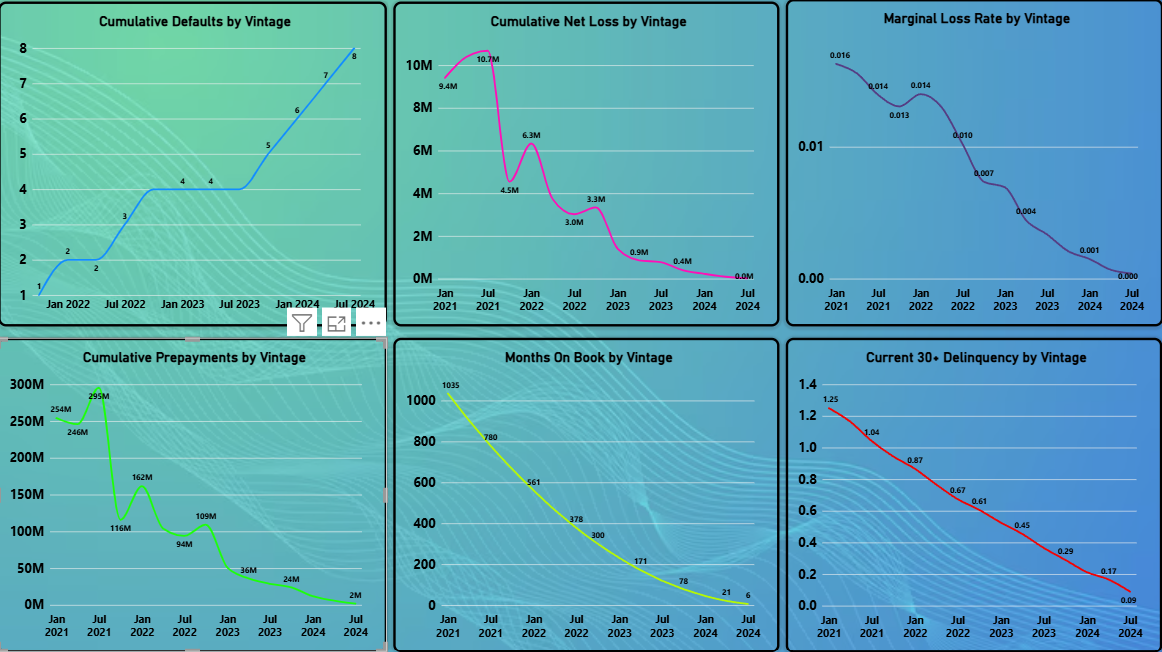

This screenshot's page, from the dashboard's own definition file:
{"tool":"powerbi","page":{"name":"Vintage & Portfolio Trends","canvas":[1920,1080],"ordinal":6},"visuals":[{"type":"lineChart","title":"Cumulative Defaults by Vintage","fields":{"Category":["Vintage.VintageStartDate"],"Y":["Measures (2).Cumulative Defaults Count"]},"box":[2.1,4.1,640.1,535.2],"z":0},{"type":"lineChart","title":"Cumulative Net Loss by Vintage","fields":{"Category":["Vintage.VintageStartDate"],"Y":["Sum(Vintage.CumulativeNetLoss)"]},"box":[652.5,4.1,636,535.2],"z":1000},{"type":"lineChart","title":"Marginal Loss Rate by Vintage","fields":{"Category":["Vintage.VintageStartDate"],"Y":["Sum(Vintage.MarginalLossRate)"]},"box":[1298.8,0,621.6,539.3],"z":2000},{"type":"lineChart","title":"Cumulative Prepayments by Vintage","fields":{"Category":["Vintage.VintageStartDate"],"Y":["Sum(Vintage.CumulativePrepayments)"]},"box":[0,557.8,642.2,518.7],"z":3000},{"type":"lineChart","title":"Months On Book by Vintage","fields":{"Category":["Vintage.VintageStartDate"],"Y":["Sum(Vintage.MonthsOnBook)"]},"box":[652,558,636,519],"z":4000},{"type":"lineChart","title":"Current 30+ Delinquency by Vintage","fields":{"Category":["Vintage.VintageStartDate"],"Y":["Sum(Vintage.CurrentDelinq30Plus)"]},"box":[1298,558,620,520],"z":5000}]}

Visuals, with their boxes in screenshot pixels (x1, y1, x2, y2), scaled from the page's 1920x1080 canvas onto the 1162x652 screenshot:
"Cumulative Defaults by Vintage" lineChart: 1 2 389 326
"Cumulative Net Loss by Vintage" lineChart: 395 2 780 326
"Marginal Loss Rate by Vintage" lineChart: 786 0 1161 326
"Cumulative Prepayments by Vintage" lineChart: 0 337 389 650
"Months On Book by Vintage" lineChart: 395 337 780 650
"Current 30+ Delinquency by Vintage" lineChart: 786 337 1161 651
